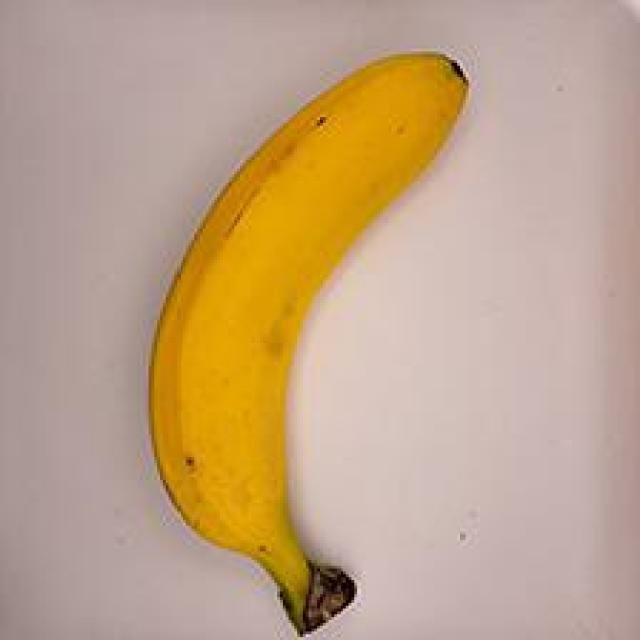Ripe: (123, 17, 474, 640)
